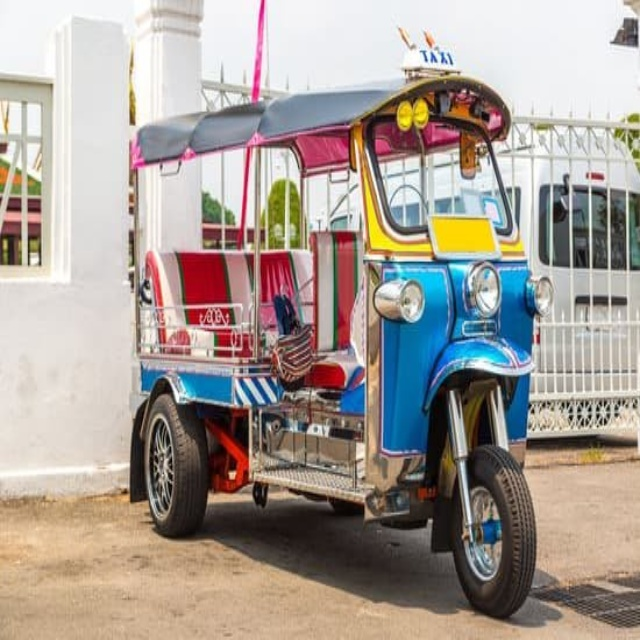Motorcycle: (129, 47, 553, 619)
